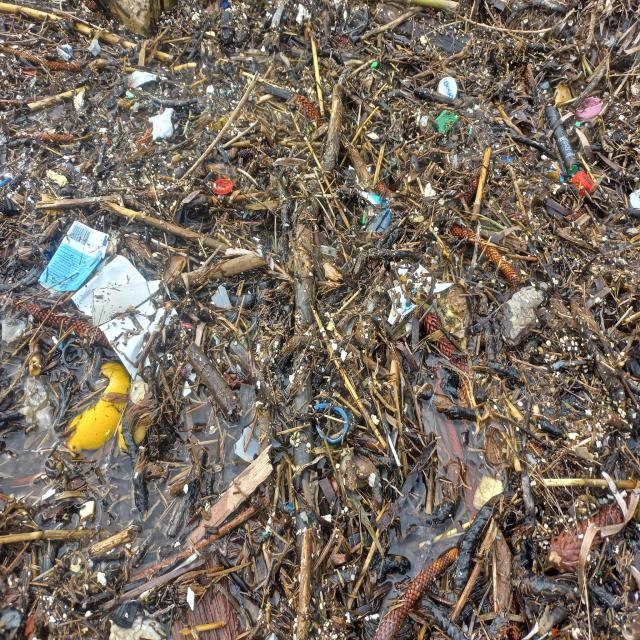Bottle cap: (575, 96, 603, 117), (436, 76, 457, 99), (213, 179, 233, 194)
Other litter: (64, 361, 129, 454), (559, 170, 564, 182), (576, 121, 580, 127), (548, 169, 555, 172), (509, 37, 512, 40)
Other plastic: (21, 337, 106, 440), (387, 257, 455, 337), (38, 220, 109, 295), (544, 106, 579, 175), (313, 403, 349, 443), (356, 174, 387, 205), (432, 110, 458, 138), (128, 70, 167, 88), (570, 171, 595, 197), (553, 82, 572, 108), (368, 210, 391, 231), (55, 44, 74, 62), (0, 197, 18, 215), (73, 90, 85, 111), (629, 188, 640, 210), (88, 39, 101, 57), (186, 586, 195, 611), (552, 360, 565, 371), (500, 156, 516, 162), (125, 90, 134, 99), (51, 334, 59, 344), (219, 0, 229, 8), (461, 625, 469, 632), (371, 61, 378, 69), (286, 503, 295, 509), (262, 531, 272, 536), (362, 213, 366, 224), (58, 342, 62, 350), (362, 92, 366, 99), (243, 213, 247, 219), (520, 385, 524, 391), (598, 571, 603, 575), (157, 297, 160, 303), (469, 128, 472, 134), (632, 540, 636, 544), (413, 288, 416, 292), (351, 122, 353, 127), (388, 52, 391, 55), (163, 307, 166, 309)
Straw: (0, 177, 12, 187)
Styrofoam piece: (70, 252, 179, 379), (234, 410, 291, 464), (148, 107, 174, 141), (181, 372, 196, 400)
Unlabeled litter: (550, 628, 558, 636), (584, 373, 589, 379), (310, 622, 312, 632), (182, 369, 186, 374)
